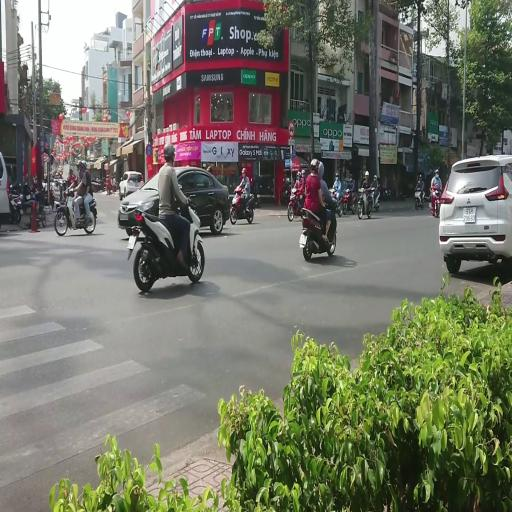bikes: (126, 196, 204, 292), (299, 196, 338, 260), (54, 186, 97, 236), (117, 186, 160, 236), (8, 180, 46, 228), (230, 188, 254, 224), (8, 180, 24, 224), (287, 187, 305, 221), (357, 186, 373, 218), (428, 186, 442, 217), (330, 188, 344, 216), (342, 186, 356, 214), (52, 178, 67, 202), (249, 176, 260, 208), (280, 178, 292, 204), (370, 183, 380, 211), (414, 186, 425, 209), (91, 176, 105, 192), (58, 180, 68, 200), (111, 175, 119, 192)
helmet: (163, 144, 176, 160), (310, 158, 319, 171), (318, 161, 324, 179), (80, 160, 86, 169), (76, 160, 82, 167), (297, 171, 301, 179), (242, 168, 246, 174), (251, 177, 255, 183), (365, 171, 369, 176), (335, 172, 339, 177), (301, 170, 305, 175), (69, 168, 73, 173), (419, 174, 422, 180), (435, 169, 439, 173), (106, 174, 110, 178), (436, 171, 438, 176), (374, 175, 376, 179), (350, 174, 352, 178)
